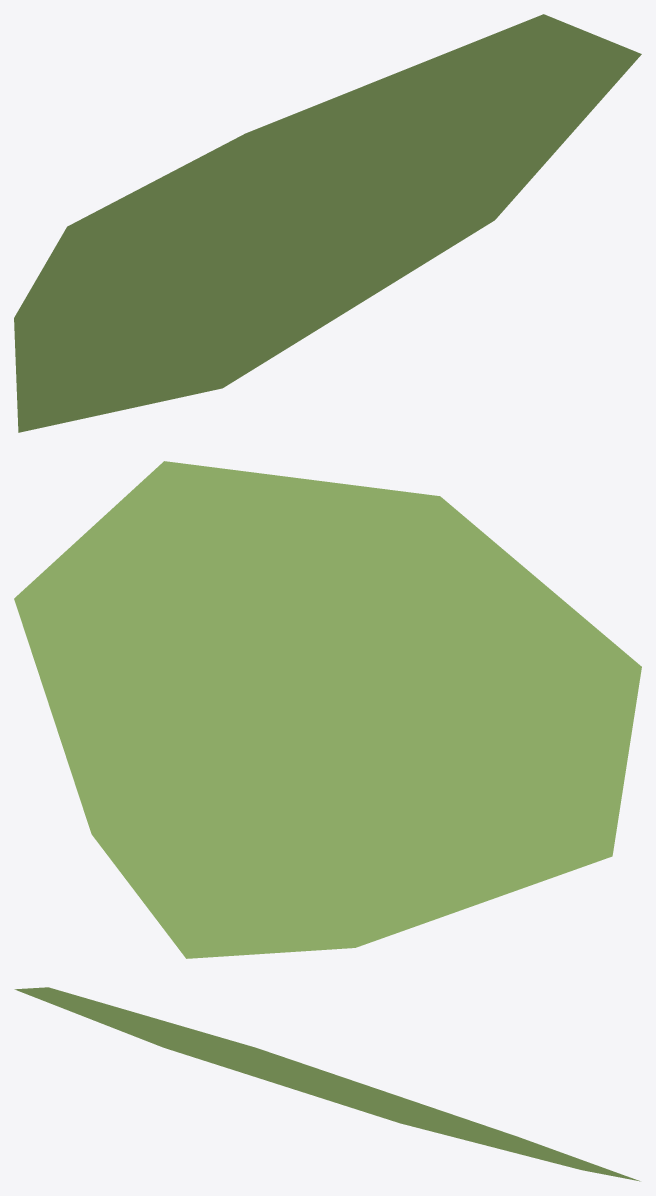
The model's file is single-leaf.glb.
3 renders of one model, top to bottom at view 1: azimuth 30°, elevation 25°; view 2: azimuth 150°, elevation 25°; view 3: azimuth 270°, elevation 25°, orthographic. The views are drawn at different scales.
Parts seen in each view (by area): view 1: leaves2.002; view 2: leaves2.002; view 3: leaves2.002.
Part boxes in pixels (x1,y1,x2,y2): leaves2.002: [14, 14, 641, 432]; leaves2.002: [14, 461, 641, 958]; leaves2.002: [14, 987, 640, 1181].
Bounding box in the file's own units: 0.2596 × 0.1262 × 0.2665.
